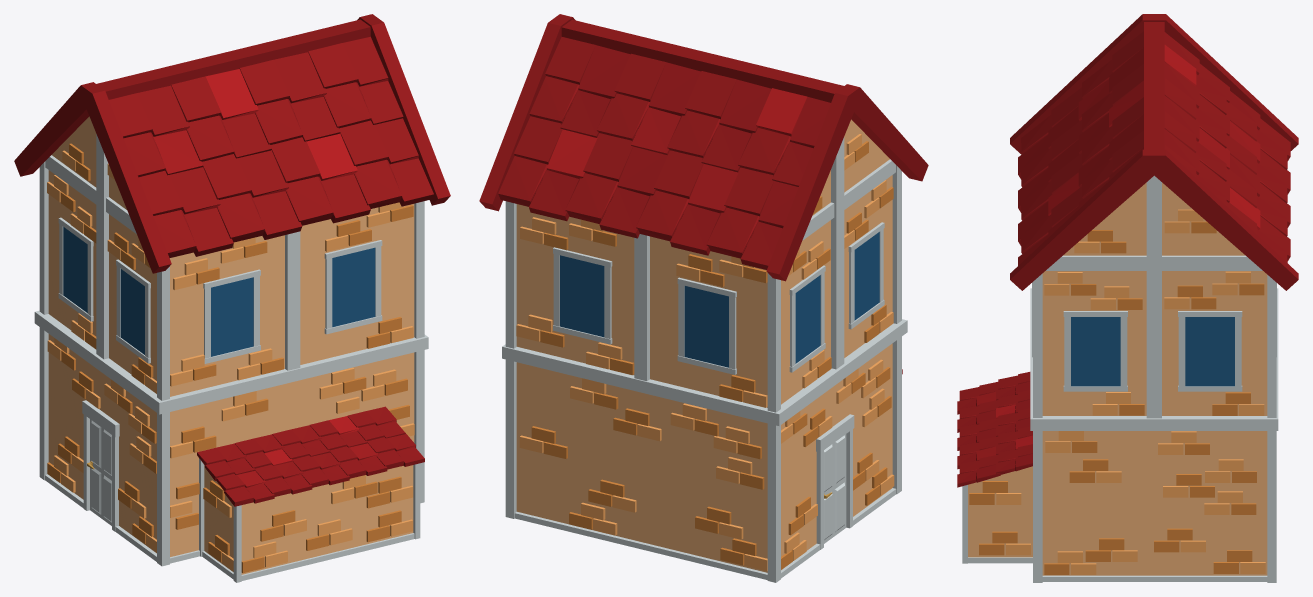
Rendered from SM_House_9.FBX.
3 renders of one model, left to right at view 1: azimuth 30°, elevation 25°; view 2: azimuth 150°, elevation 25°; view 3: azimuth 270°, elevation 25°, orthographic. The views are drawn at different scales.
Visible parts, largest first — view 1: SM_House_9; view 2: SM_House_9; view 3: SM_House_9.
Boxes of the visible parts, x1,y1,x2,y2 form: SM_House_9: (14,14,450,582); SM_House_9: (479,14,928,582); SM_House_9: (957,14,1298,582).
Size of what is drawn, in the model's own units: 688 by 700 by 982.
